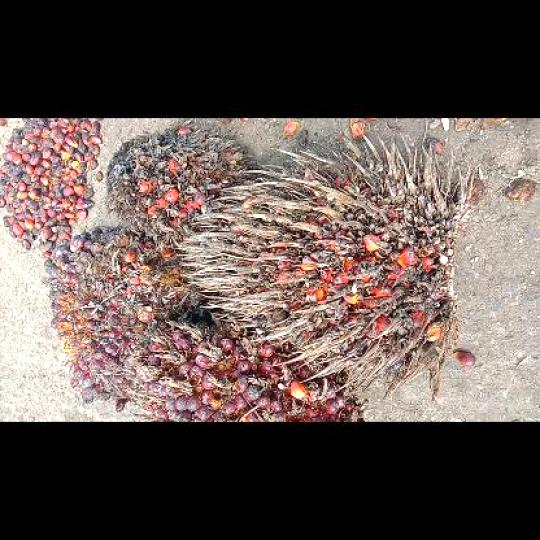masak: (43, 227, 206, 409), (124, 312, 364, 420)
terlalu masak: (177, 132, 475, 400), (106, 126, 252, 244)
